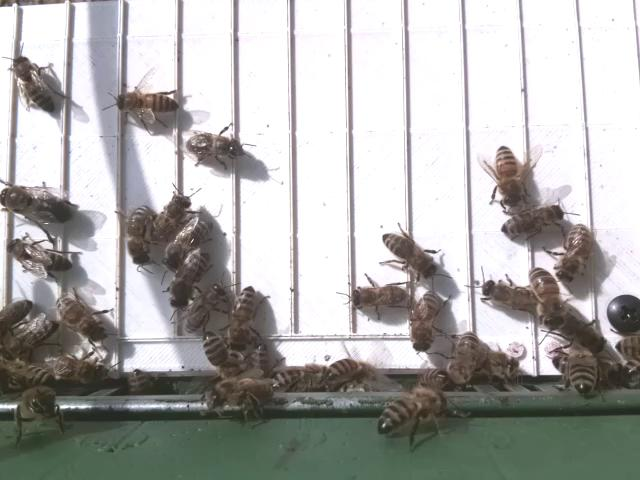Drone: (0, 182, 78, 228)
Worker: (11, 51, 60, 119), (378, 229, 441, 281), (527, 260, 568, 331), (166, 248, 211, 311), (8, 235, 77, 276), (162, 217, 215, 270), (54, 294, 108, 346), (179, 282, 226, 338), (499, 203, 563, 243), (556, 222, 596, 285), (407, 291, 445, 355), (184, 128, 247, 166), (493, 141, 527, 211), (478, 276, 534, 315), (229, 282, 260, 352), (349, 281, 408, 316), (114, 89, 181, 119), (199, 330, 232, 386), (126, 200, 152, 270)
